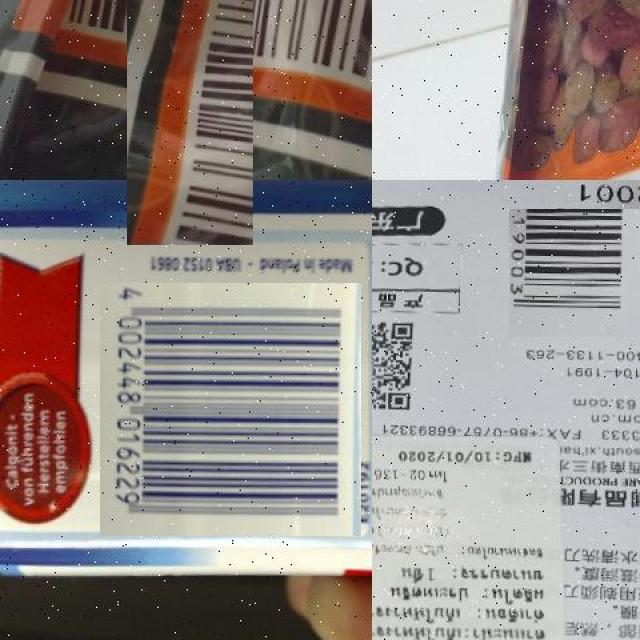Barcode: (101, 281, 359, 538), (69, 0, 313, 186), (510, 208, 640, 339)
